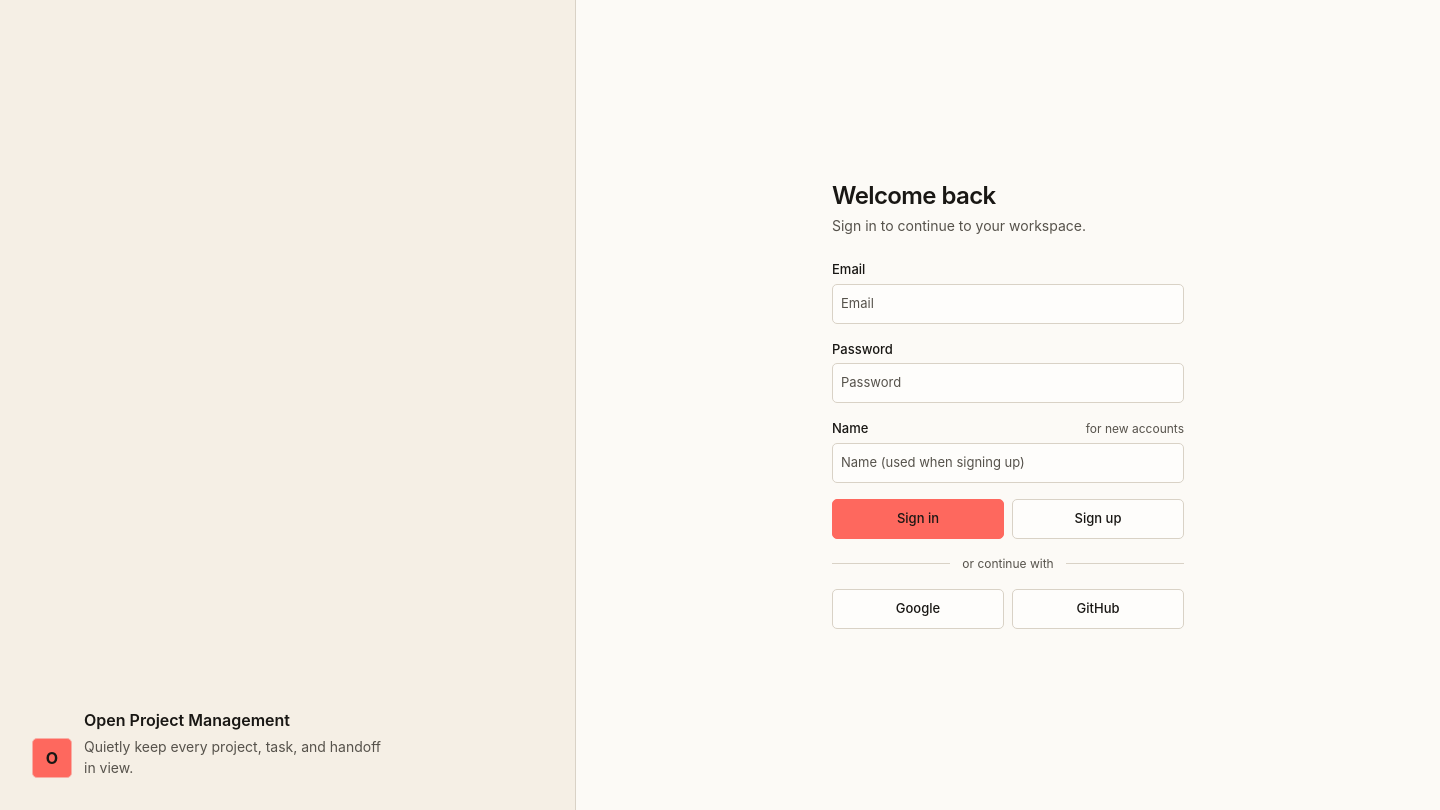
LoginPage › shows the error when an OAuth provider fails to start
Click the button "GitHub".
click(1098, 609)  # box [1012,589,1184,629]
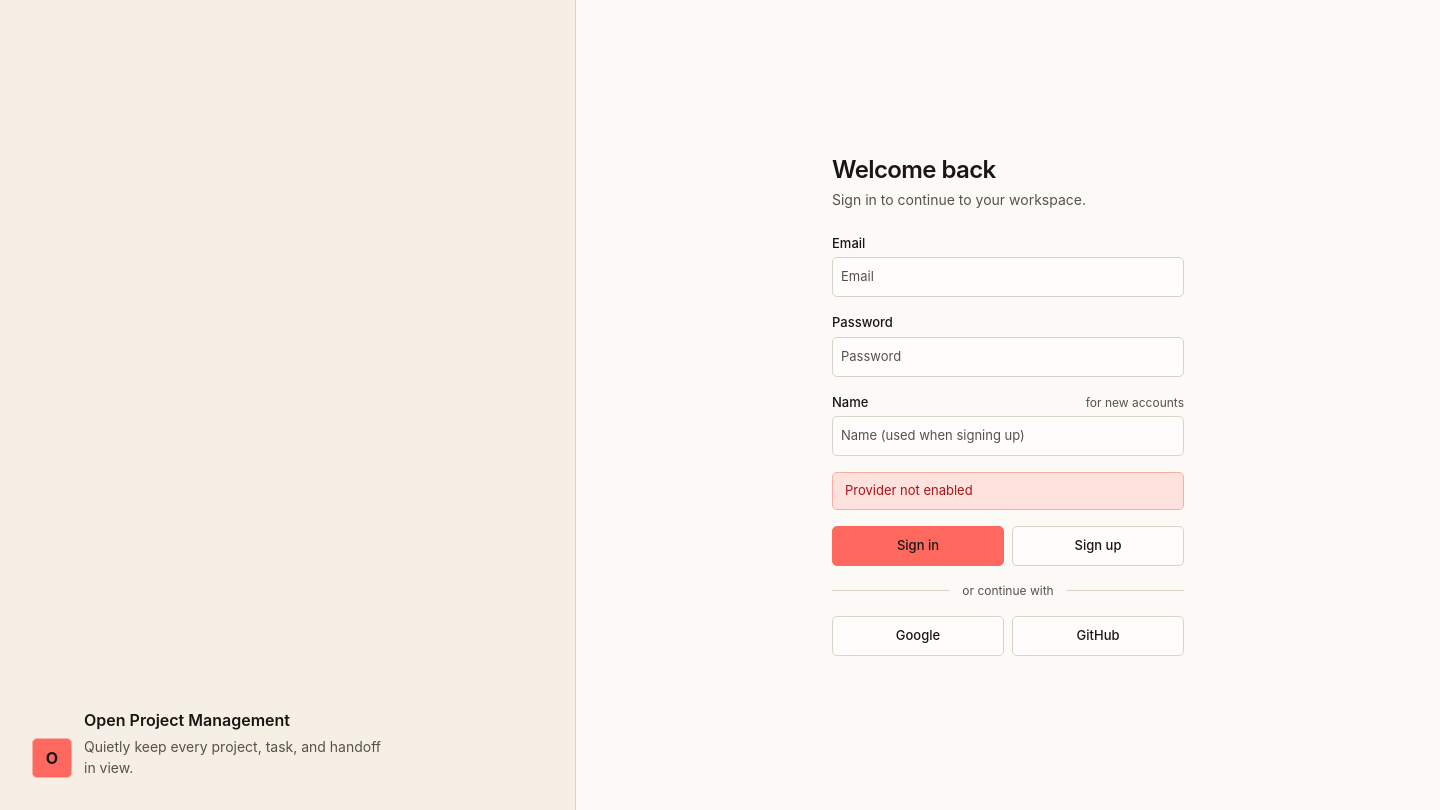
Check: the text "Provider not enabled" is shown, box [832,472,1184,510]
